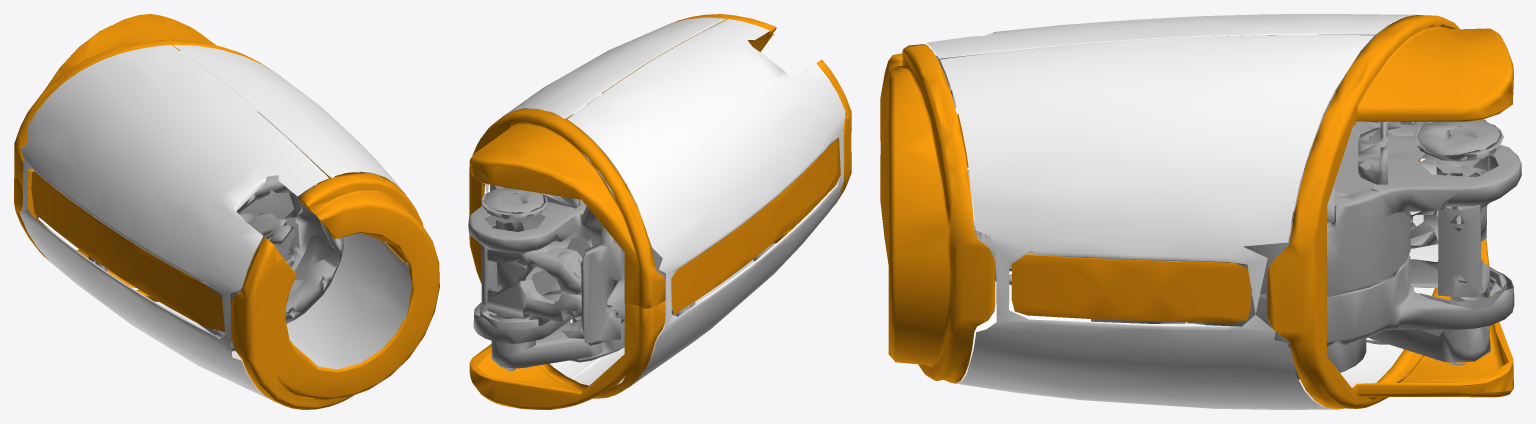
File: sim_ecub_r_upperarm.obj
The picture shows the model from 3 angles, left to right: view 1: azimuth 30°, elevation 25°; view 2: azimuth 150°, elevation 25°; view 3: azimuth 270°, elevation 25°; orthographic projection. The views are drawn at different scales.
Size of the model in its own units: 107 by 107 by 174.
